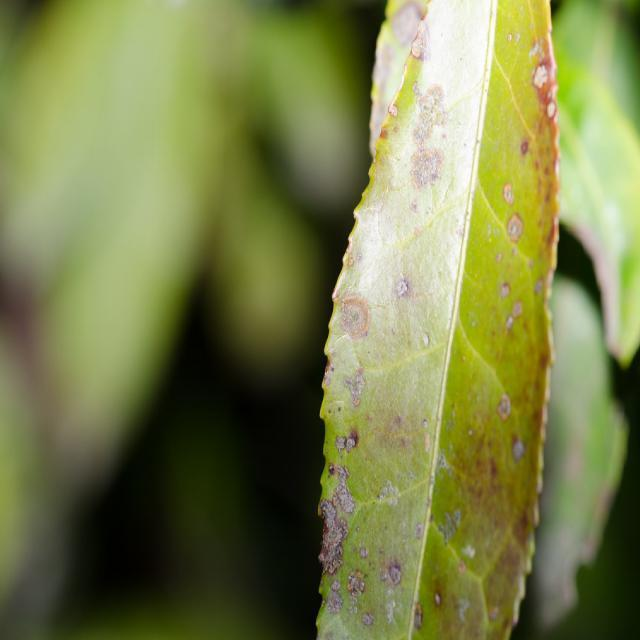Tea red rust: (315, 26, 536, 637)
